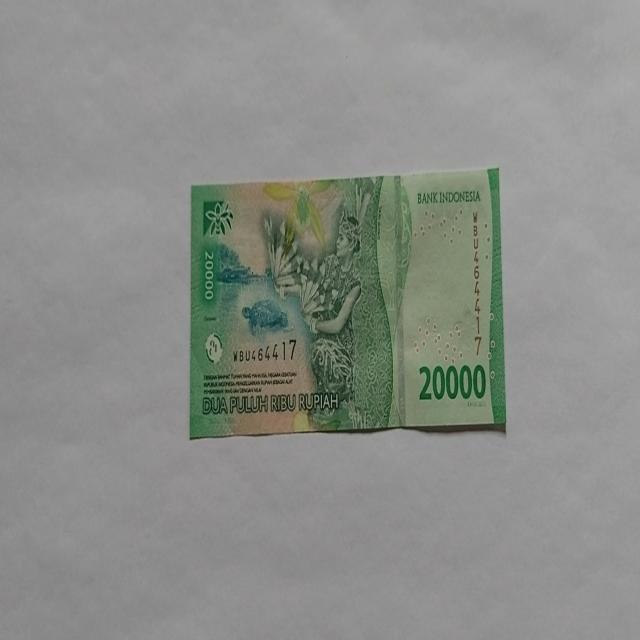dua puluh ribu rupiah: (188, 167, 506, 439), (262, 176, 402, 431)
